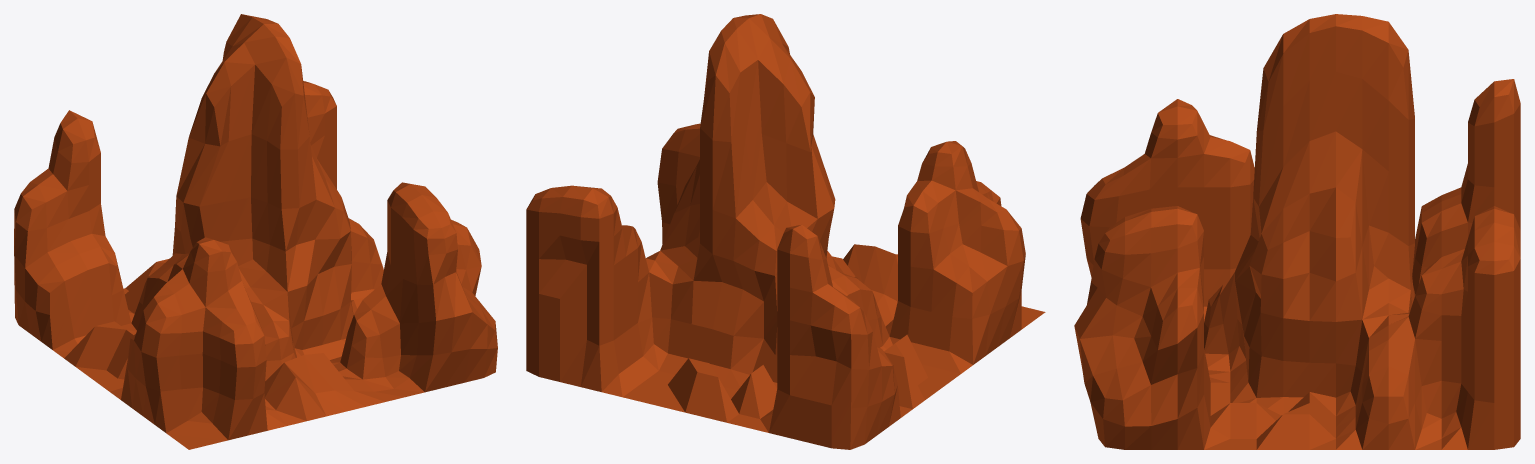
Rendered from Mountain_desert_005.glb.
3 renders of one model, left to right at view 1: azimuth 30°, elevation 25°; view 2: azimuth 150°, elevation 25°; view 3: azimuth 270°, elevation 25°, orthographic. The views are drawn at different scales.
Visible parts, largest first — view 1: Mountain_desert_005; view 2: Mountain_desert_005; view 3: Mountain_desert_005.
Part boxes in pixels (x1=…): Mountain_desert_005: x1=14, y1=14, x2=497, y2=449; Mountain_desert_005: x1=526, y1=14, x2=1045, y2=449; Mountain_desert_005: x1=1074, y1=14, x2=1520, y2=449.
Bounding box in the file's own units: 24.7 × 21.51 × 24.32.
